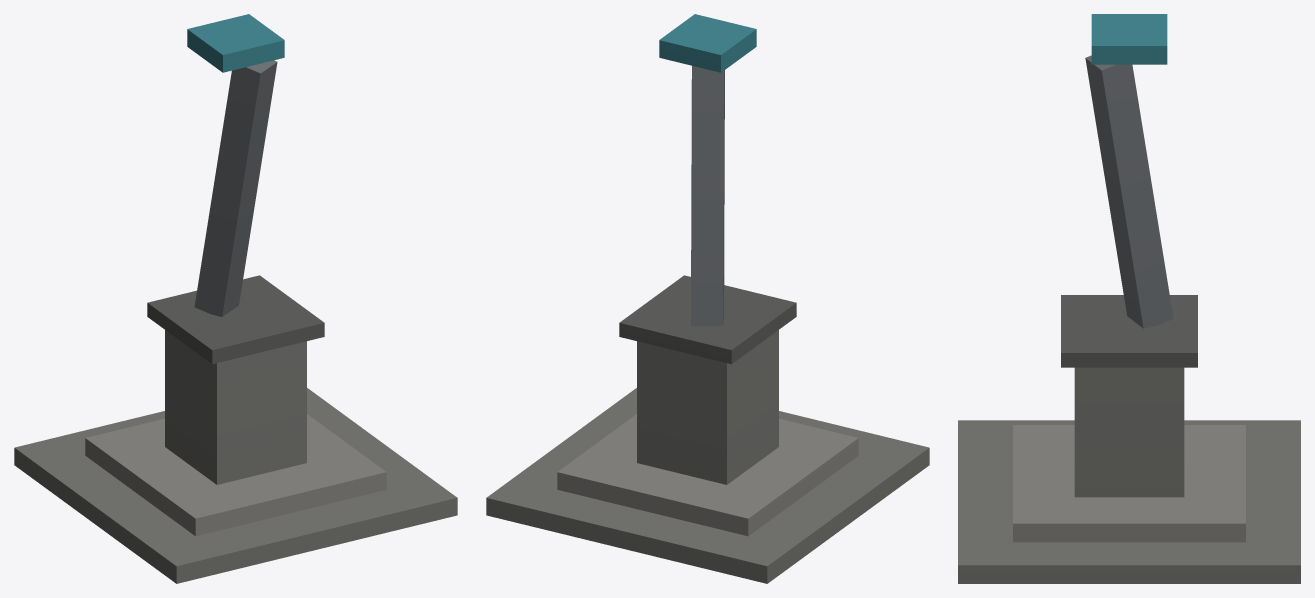
File: town_monument.glb
3 views of the same model, side by side, from view 1: azimuth 30°, elevation 25°; view 2: azimuth 150°, elevation 25°; view 3: azimuth 270°, elevation 25° (orthographic). The views are drawn at different scales.
Visible parts, largest first — view 1: prop; view 2: prop; view 3: prop.
Part boxes in pixels (left/top/right/bottom): prop: left=14, top=14, right=457, bottom=583; prop: left=486, top=14, right=929, bottom=583; prop: left=958, top=14, right=1300, bottom=583.
Size of the model in its own units: 5 by 7.75 by 5.
